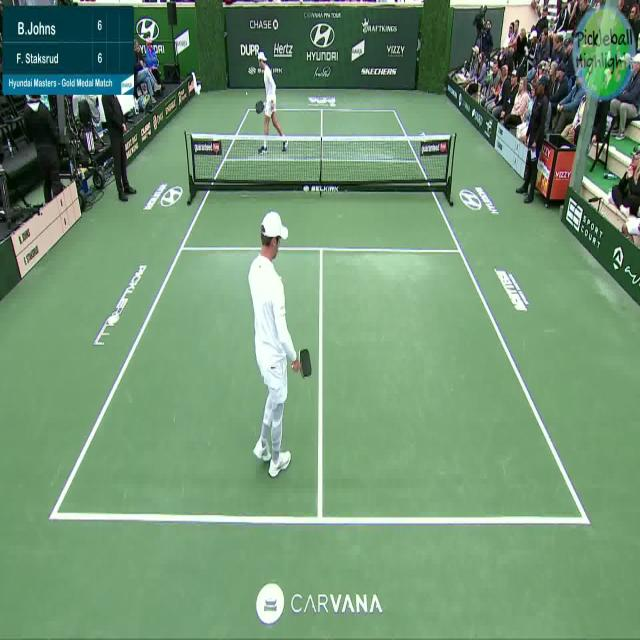ball: (245, 88, 249, 100)
